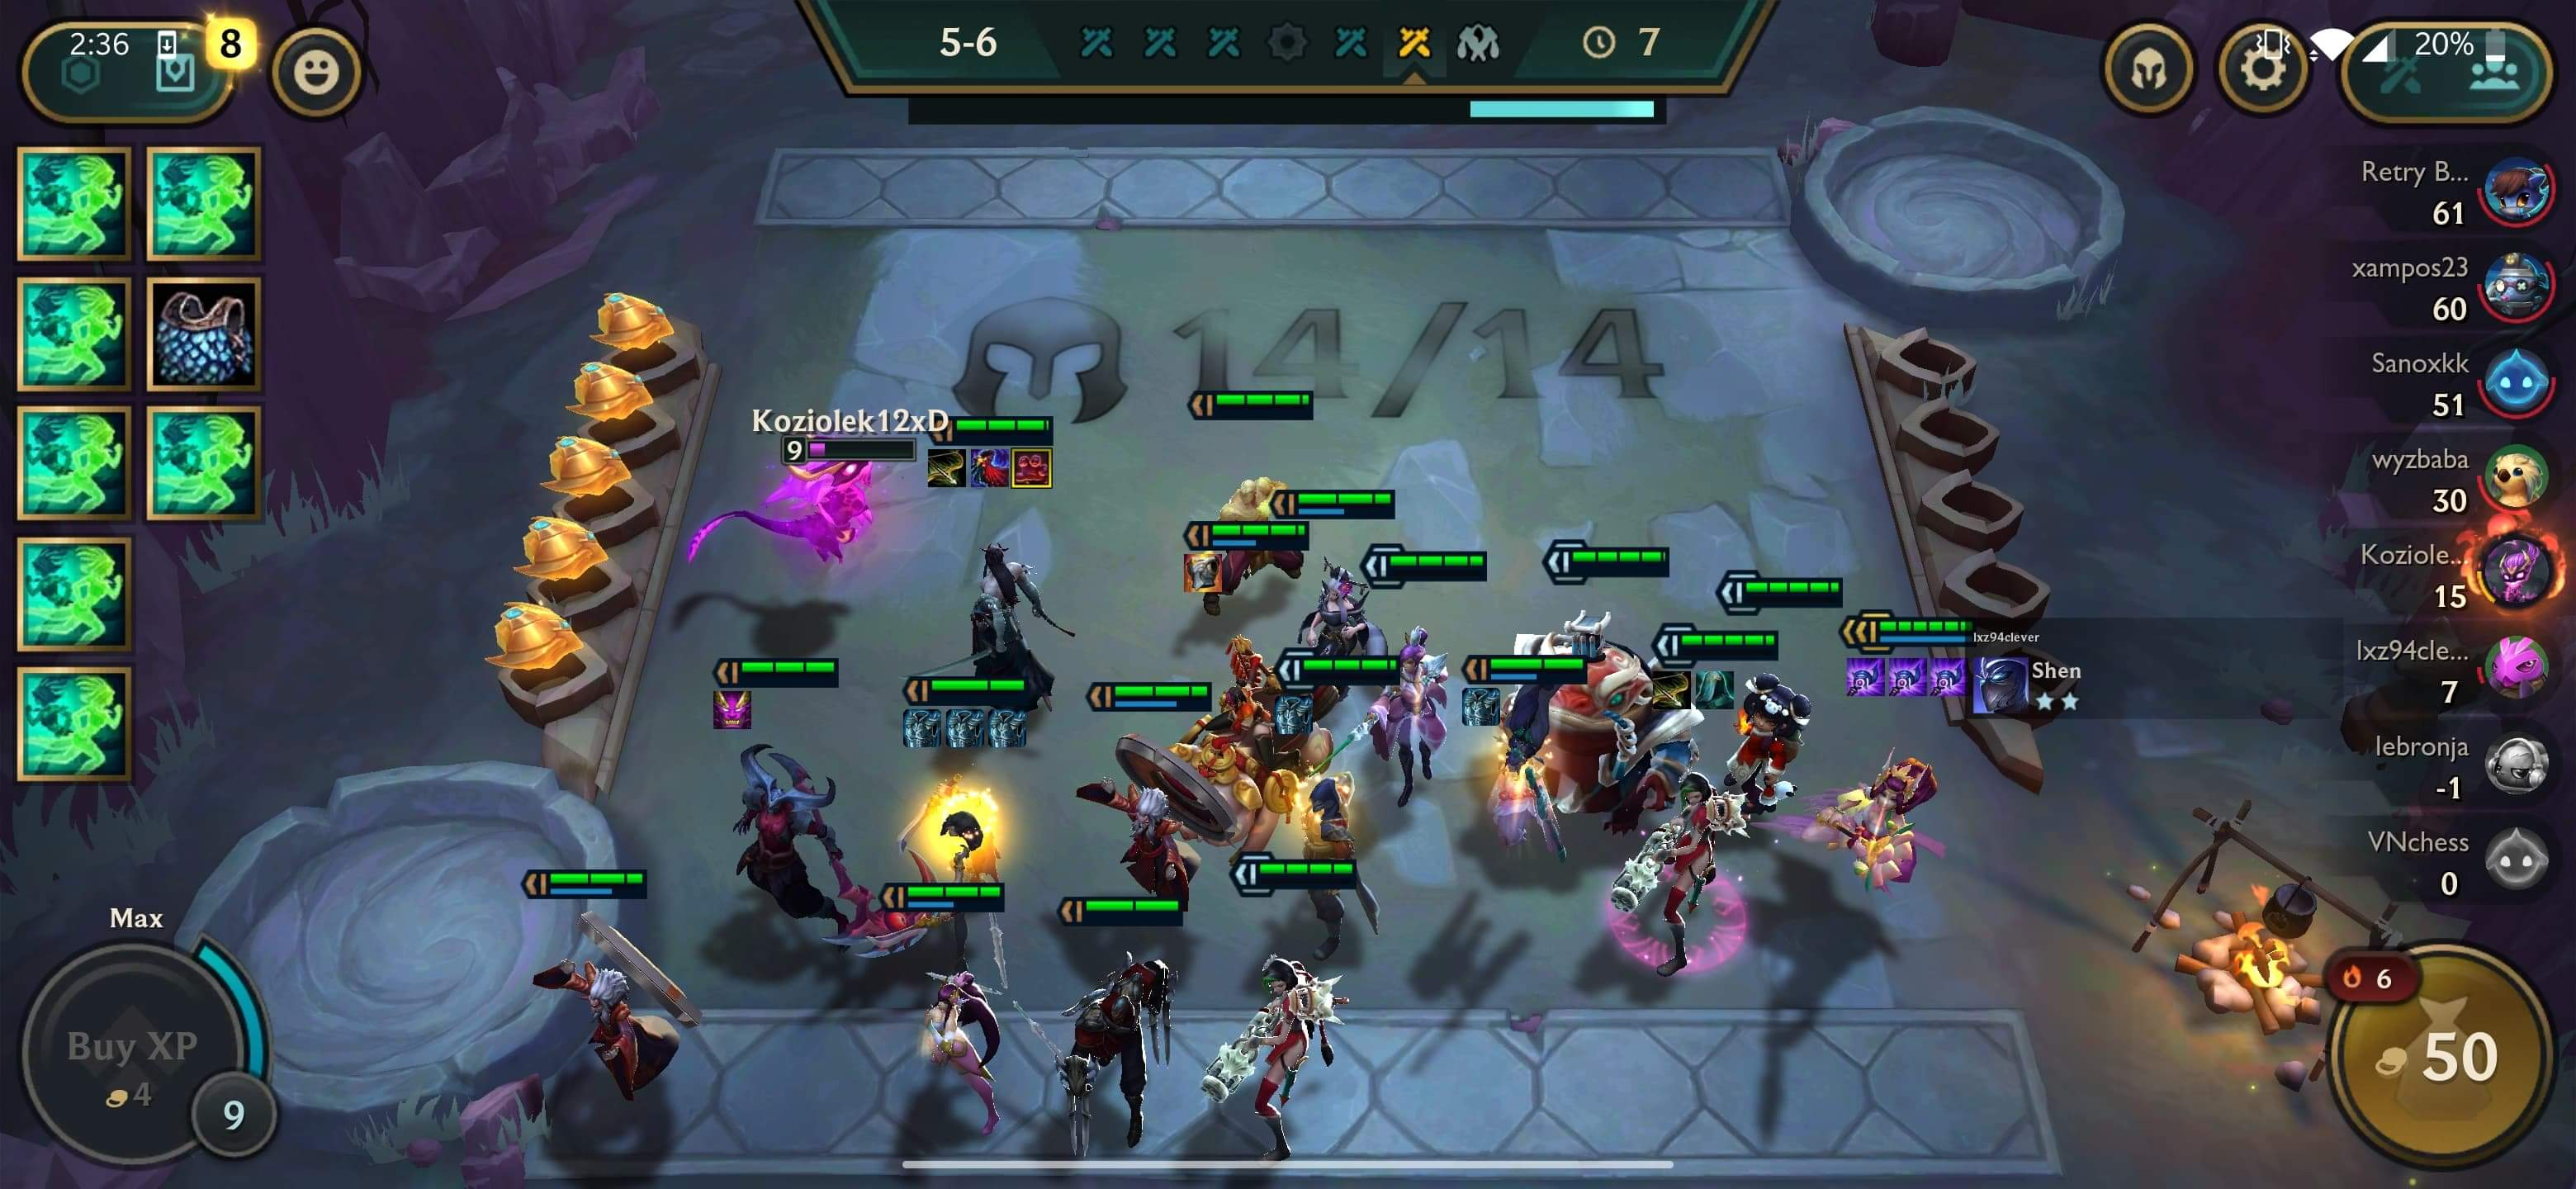1star_cassiopeia: (1257, 473, 1421, 769)
1star_irelia: (861, 872, 1027, 1148)
1star_janna: (1441, 636, 1597, 918)
1star_katarina: (874, 667, 1053, 984)
1star_kaynred: (695, 647, 879, 980)
1star_leesin: (1165, 371, 1329, 667)
1star_yone: (904, 399, 1088, 732)
1star_zed: (1022, 887, 1216, 1166)
1star_zilean: (514, 854, 708, 1115), (1050, 672, 1244, 933)
2star_annie: (1702, 560, 1855, 828)
2star_fiora: (1313, 535, 1515, 838)
2star_jinx: (1584, 611, 1797, 994), (1191, 846, 1373, 1169)
2star_jinx_chosen: (1582, 609, 1796, 992)
2star_tahmkench: (1482, 527, 1715, 862)
2star_twistedfate: (1258, 642, 1414, 972)
3star_nami: (1746, 603, 1994, 926)
item_bow: (925, 447, 964, 488), (1651, 667, 1689, 708)
item_chain: (149, 278, 258, 393)
item_dusk: (711, 688, 751, 731)
item_fon: (1275, 691, 1314, 734), (943, 706, 982, 749), (902, 706, 941, 749), (1464, 683, 1502, 726), (987, 705, 1025, 747)
item_gargoyle: (1184, 547, 1222, 590)
item_luden: (1930, 655, 1970, 696), (1888, 657, 1927, 698), (1847, 657, 1884, 698)
item_neeko: (15, 145, 136, 266), (140, 143, 261, 264), (13, 271, 135, 393), (143, 399, 264, 521), (21, 406, 130, 521), (18, 539, 126, 654), (23, 665, 131, 780)
item_quicksilver: (1694, 668, 1733, 709)
item_shroud: (973, 447, 1012, 488)
item_thief: (1014, 447, 1051, 488)
